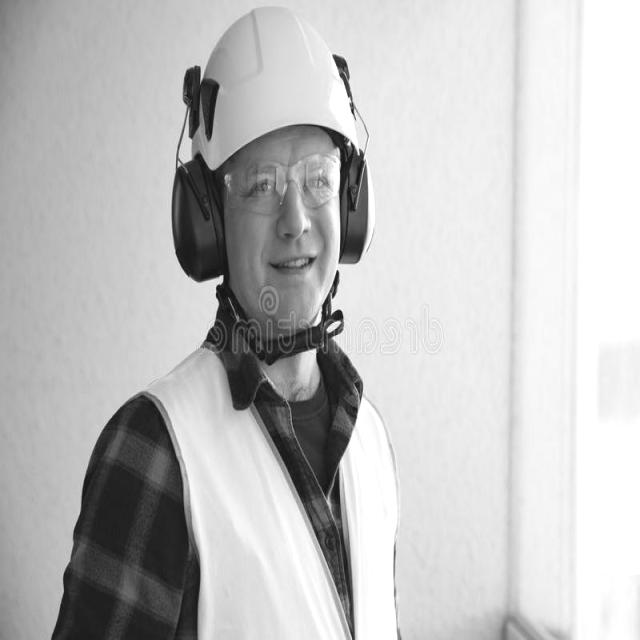face_nomask: (212, 130, 349, 316)
glasses: (219, 150, 345, 219)
head_helmet: (168, 10, 370, 173)
person: (47, 1, 407, 639)
vest: (142, 336, 404, 640)
